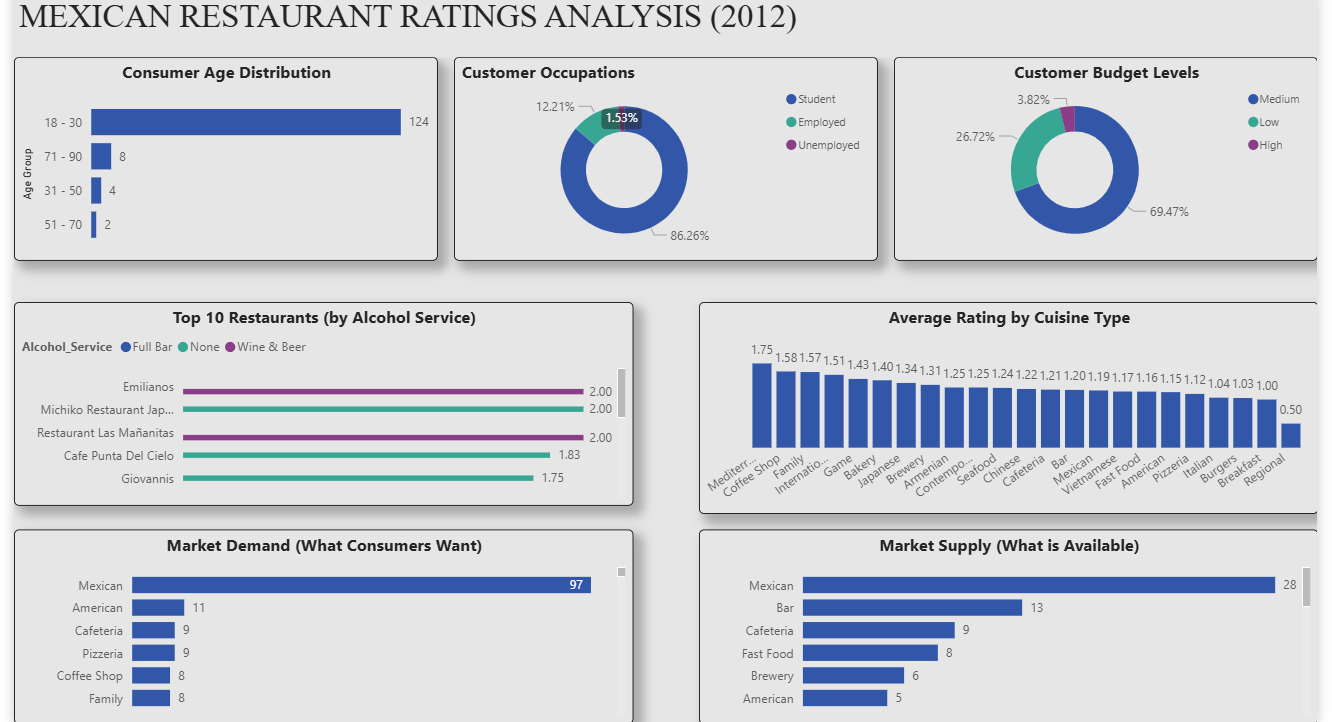

What the dashboard file says about the page in this screenshot:
{"tool":"powerbi","page":{"name":"Page 1","canvas":[1280,720],"ordinal":0},"visuals":[{"type":"barChart","title":"Consumer Age Distribution","fields":{"Category":["consumers.Age Group"],"Y":["consumers.Consumer_ID"]},"box":[0,64,416,200],"z":0},{"type":"donutChart","title":"Customer Occupations","fields":{"Category":["consumers.Occupation"],"Y":["consumers.Consumer_ID"]},"box":[432,64,416,200],"z":1000},{"type":"donutChart","title":"Customer Budget Levels","fields":{"Category":["consumers.Budget"],"Y":["consumers.Consumer_ID"]},"box":[864,64,416,200],"z":2000},{"type":"clusteredBarChart","title":"Top 10 Restaurants (by Alcohol Service)","fields":{"Y":["ratings.Overall_Rating"],"Category":["restaurants.Name"],"Series":["restaurants.Alcohol_Service"]},"box":[0,304,608,200],"z":3000},{"type":"clusteredColumnChart","title":"Average Rating by Cuisine Type","fields":{"Category":["restaurant_cuisines.Cuisine"],"Y":["ratings.Overall_Rating"]},"box":[672,304,608,208],"z":4000},{"type":"clusteredBarChart","title":"Market Demand (What Consumers Want)","fields":{"Category":["consumer_preferences.Preferred_Cuisine"],"Y":["consumer_preferences.Consumer_ID"]},"box":[0,528,608,192],"z":5000},{"type":"clusteredBarChart","title":"Market Supply (What is Available)","fields":{"Category":["restaurant_cuisines.Cuisine"],"Y":["restaurant_cuisines.Restaurant_ID"]},"box":[672,528,608,192],"z":6000},{"type":"textbox","box":[0,0,1280,64],"z":7000}]}

Visuals, with their boxes in screenshot pixels (x1, y1, x2, y2):
"Consumer Age Distribution" barChart: (7,55,433,260)
"Customer Occupations" donutChart: (450,55,876,260)
"Customer Budget Levels" donutChart: (892,55,1318,260)
"Top 10 Restaurants (by Alcohol Service)" clusteredBarChart: (7,301,630,506)
"Average Rating by Cuisine Type" clusteredColumnChart: (695,301,1318,514)
"Market Demand (What Consumers Want)" clusteredBarChart: (7,531,630,721)
"Market Supply (What is Available)" clusteredBarChart: (695,531,1318,721)
textbox: (7,0,1318,55)
